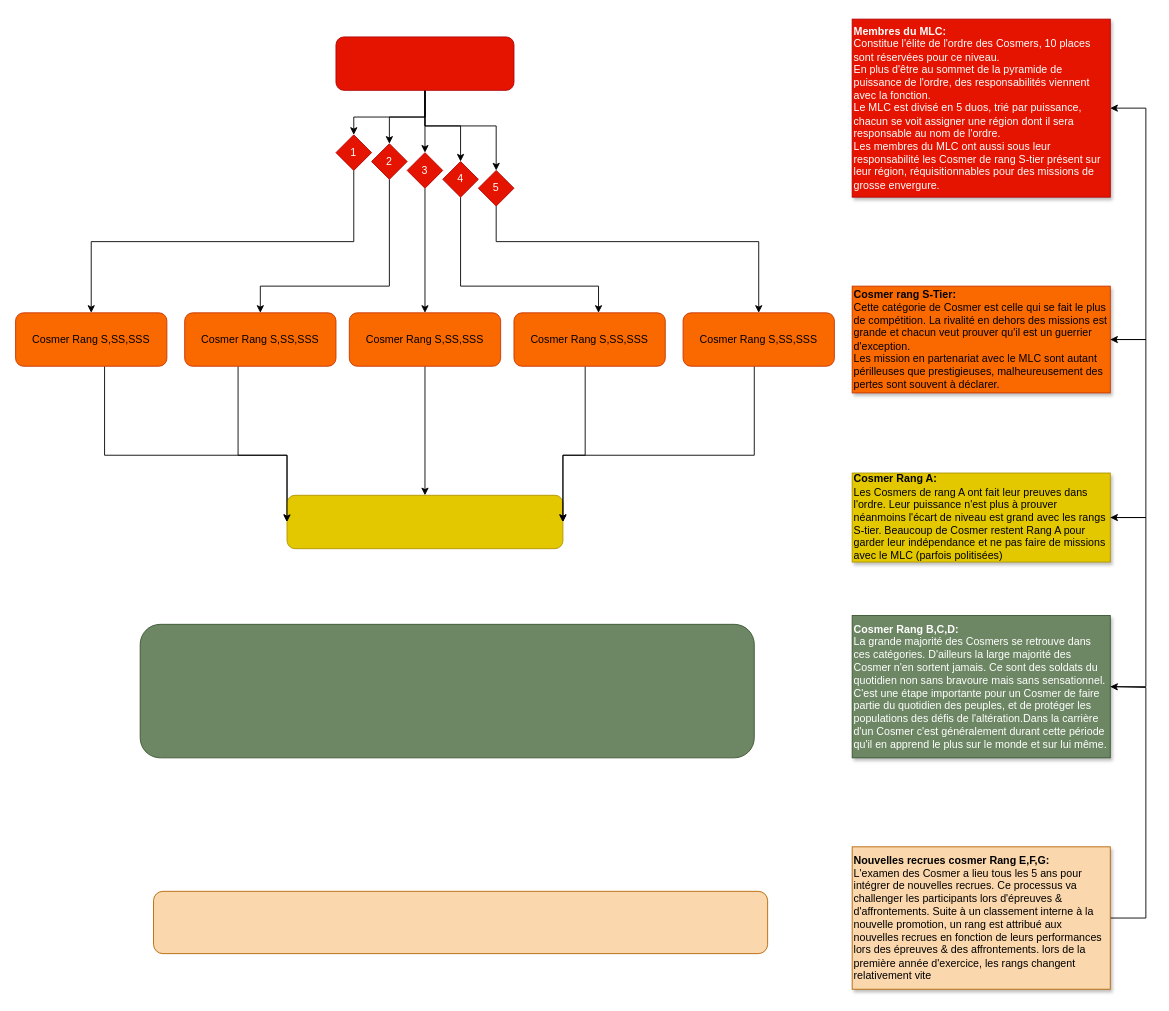
The diagram is 1169 pixels wide and 1011 high, and some of its shapes have lost their labels. Each missing label, with the centre of its shape:
"Cosmer Rang A" belongs at [424,521].
"Cosmer Rang B,C,D" belongs at [446,690].
"Cosmer Rang E,F,G" belongs at [460,922].
"Membres de Main Land Cosm" belongs at [424,63].
